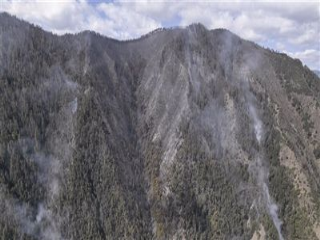smoke: (255, 174, 290, 240), (244, 99, 270, 155), (19, 198, 58, 226)
